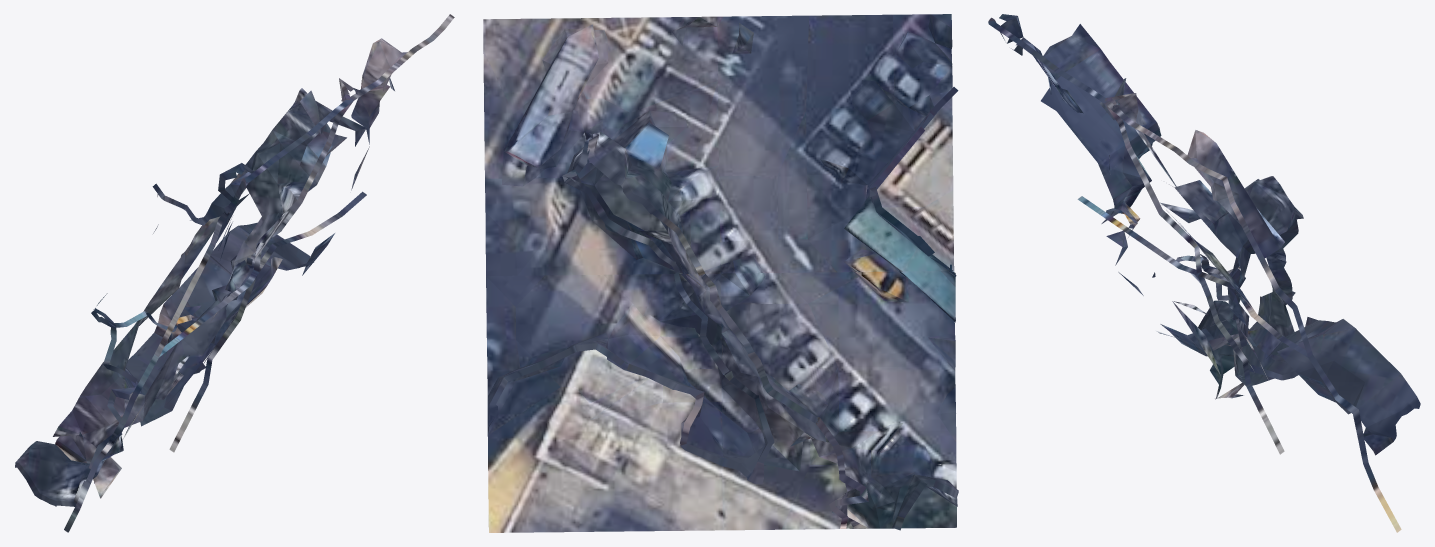
The picture shows the model from 3 angles, left to right: view 1: azimuth 30°, elevation 25°; view 2: azimuth 150°, elevation 25°; view 3: azimuth 270°, elevation 25°; orthographic projection. The views are drawn at different scales.
Size of the model in its own units: 40.47 by 35.39 by 34.01.
2 materials, 2 textured.
